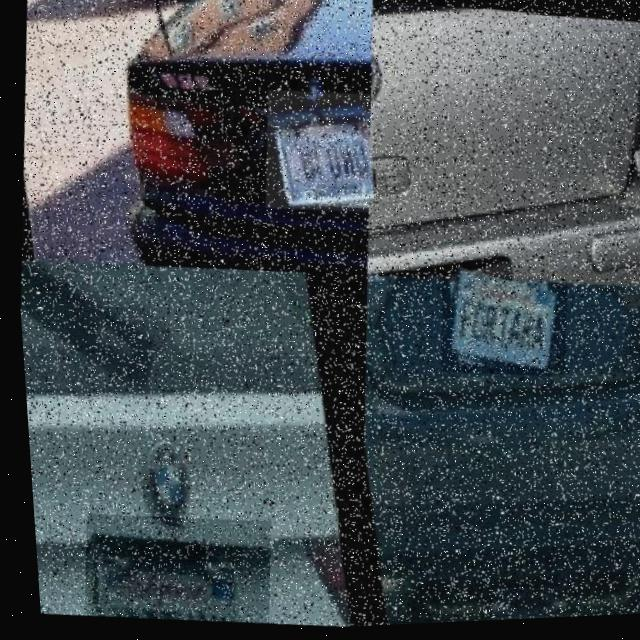LicensePlate: (70, 507, 268, 631), (256, 88, 379, 219), (430, 271, 568, 386), (135, 0, 197, 6)
